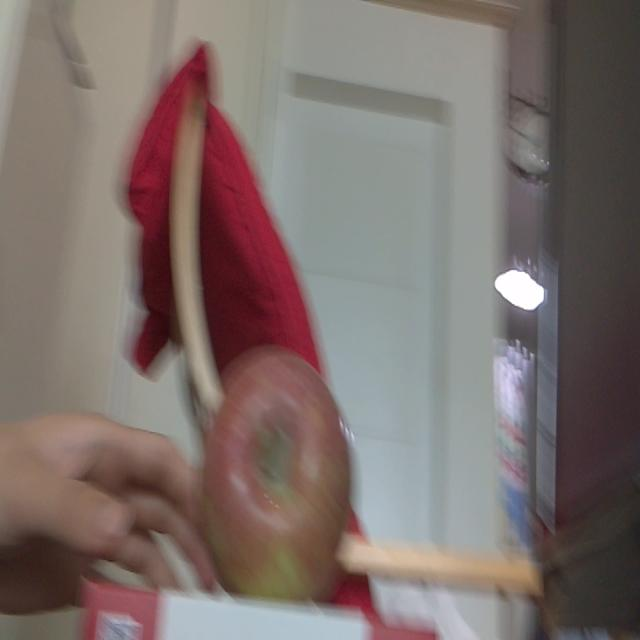apple: (204, 352, 351, 600)
